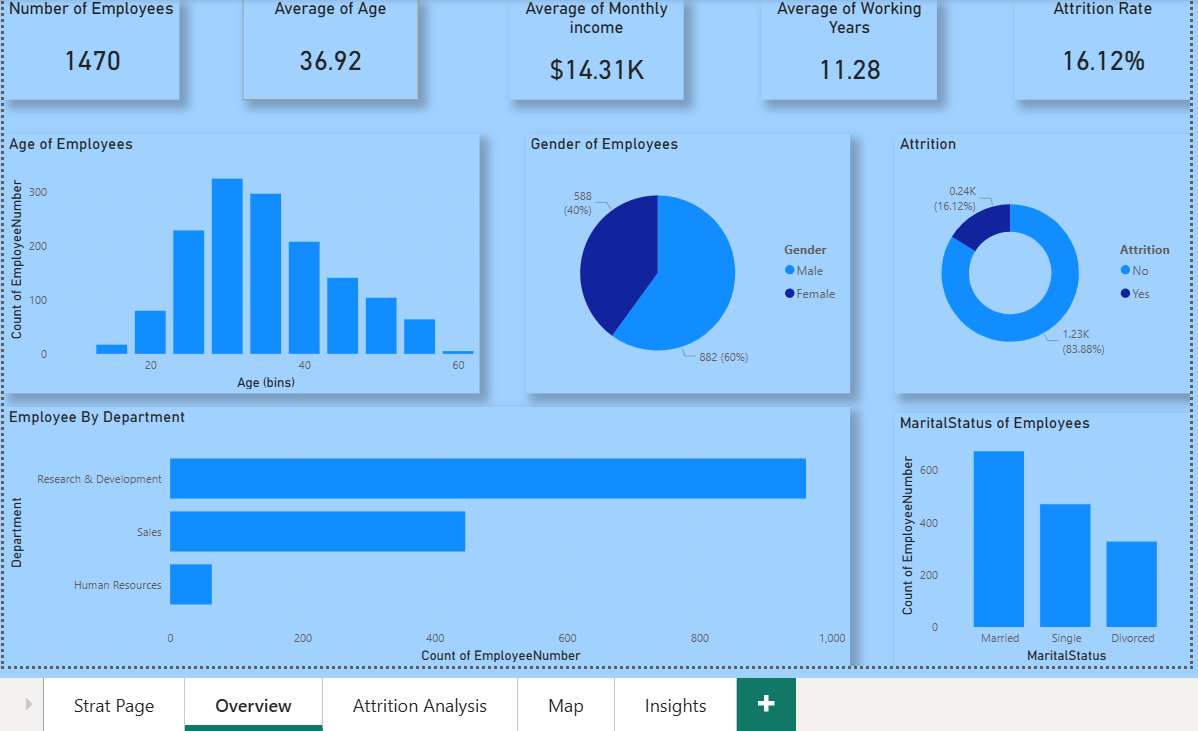

The dashboard page shown, as its layout file describes it:
{"tool":"powerbi","page":{"name":"Overview","canvas":[1280,720],"ordinal":1},"visuals":[{"type":"card","title":"Average of Monthly income","fields":{"Values":["Avg(HRIS.MonthlyIncome)"]},"box":[545.7,0,187.8,108.5],"z":2000},{"type":"card","title":"Attrition Rate","fields":{"Values":["HRIS.Attrition Rate"]},"box":[1091.4,0,189.4,108.5],"z":3000},{"type":"card","title":"Average of Working Years","fields":{"Values":["Avg(HRIS.TotalWorkingYears)"]},"box":[818.4,0,189.4,108.5],"z":4000},{"type":"columnChart","title":"Age of Employees","fields":{"Category":["HRIS.Age (bins)"],"Y":["CountNonNull(HRIS.EmployeeNumber)"]},"box":[0,145,513.3,280],"z":6000},{"type":"pieChart","title":"Gender of Employees","fields":{"Category":["HRIS.Gender"],"Y":["CountNonNull(HRIS.EmployeeNumber)"]},"box":[563.5,145.7,349.8,280.1],"z":7000},{"type":"donutChart","title":"Attrition","fields":{"Category":["HRIS.Attrition"],"Y":["CountNonNull(HRIS.EmployeeNumber)"]},"box":[961.8,145.7,319,280.1],"z":8000},{"type":"barChart","title":"Employee By Department","fields":{"Category":["HRIS.Department"],"Y":["CountNonNull(HRIS.EmployeeNumber)"]},"box":[0,440.4,913.2,280.1],"z":9000},{"type":"columnChart","title":"MaritalStatus of Employees","fields":{"Category":["HRIS.MaritalStatus"],"Y":["CountNonNull(HRIS.EmployeeNumber)"]},"box":[961.8,446.9,319,273.6],"z":10000},{"type":"card","title":"Number of Employees","fields":{"Values":["CountNonNull(HRIS.EmployeeNumber)"]},"box":[0,0,189.4,108.5],"z":11001},{"type":"card","title":"Average of Age","fields":{"Values":["Avg(HRIS.Age)"]},"box":[257.5,0,189.4,108.5],"z":11002}]}

Visuals, with their boxes on the page's 1280x720 design canvas (x1, y1, x2, y2). These are canvas units, not pixel positions in the 1198x731 screenshot, which may show the page scaled, cropped or inside an application window:
"Average of Monthly income" card: <region>546, 0, 734, 108</region>
"Attrition Rate" card: <region>1091, 0, 1281, 108</region>
"Average of Working Years" card: <region>818, 0, 1008, 108</region>
"Age of Employees" columnChart: <region>0, 145, 513, 425</region>
"Gender of Employees" pieChart: <region>564, 146, 913, 426</region>
"Attrition" donutChart: <region>962, 146, 1281, 426</region>
"Employee By Department" barChart: <region>0, 440, 913, 720</region>
"MaritalStatus of Employees" columnChart: <region>962, 447, 1281, 720</region>
"Number of Employees" card: <region>0, 0, 189, 108</region>
"Average of Age" card: <region>258, 0, 447, 108</region>
